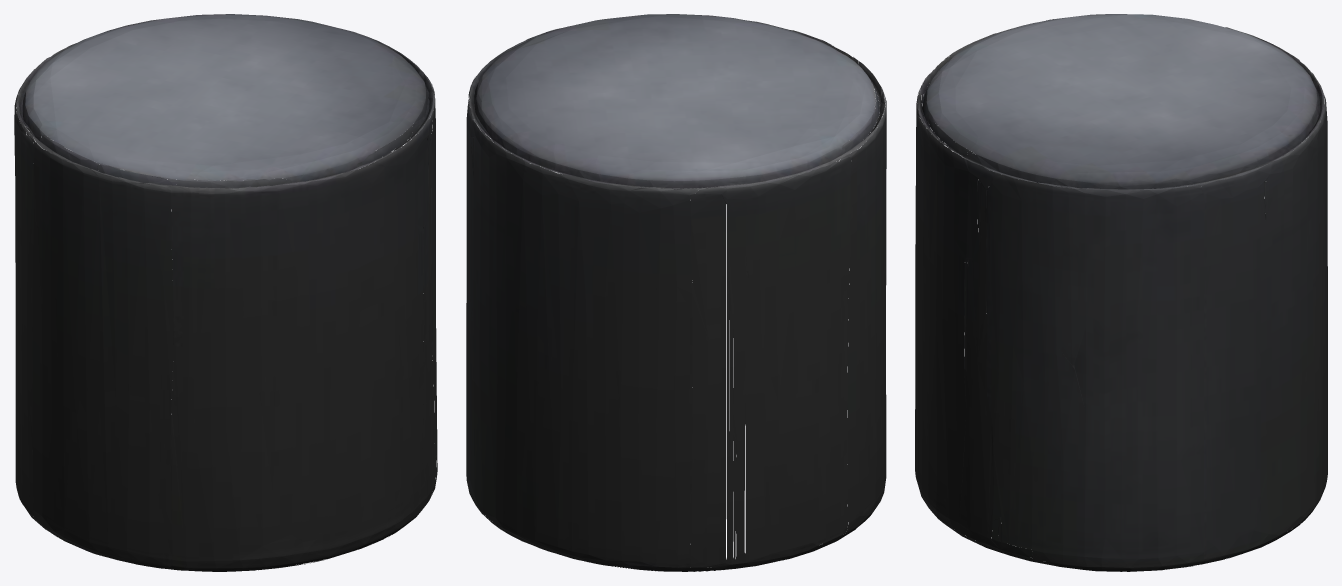
The model's file is ottoman.glb.
3 views of the same model, side by side, from view 1: azimuth 30°, elevation 25°; view 2: azimuth 150°, elevation 25°; view 3: azimuth 270°, elevation 25° (orthographic).
Parts seen in each view (by area): view 1: geometry_0; view 2: geometry_0; view 3: geometry_0.
Part boxes in pixels (left/top/right/bottom): geometry_0: left=14, top=14, right=437, bottom=571; geometry_0: left=466, top=14, right=886, bottom=571; geometry_0: left=915, top=14, right=1327, bottom=571.
Bounding box in the file's own units: 0.9672 × 0.9992 × 0.9478.
1 material, 1 textured.
